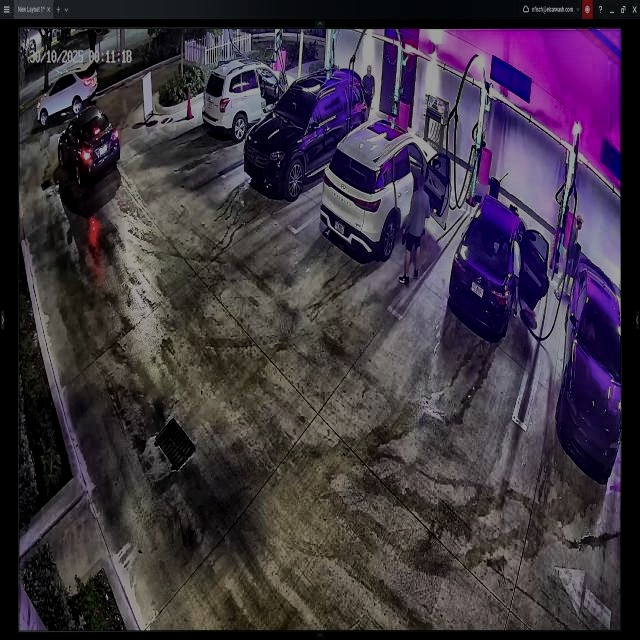Car: (322, 122, 446, 255), (244, 68, 367, 190), (449, 196, 548, 342), (204, 60, 294, 141)
